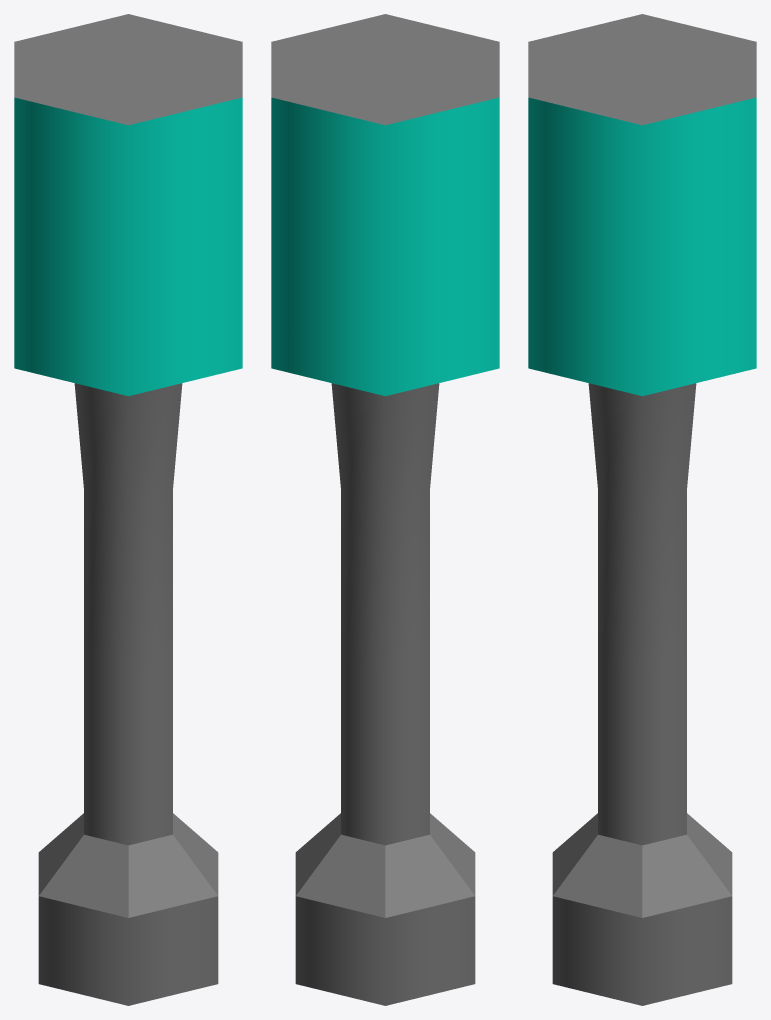
The model's file is Spline Lams 1.fbx.
The picture shows the model from 3 angles, left to right: view 1: azimuth 30°, elevation 25°; view 2: azimuth 150°, elevation 25°; view 3: azimuth 270°, elevation 25°; orthographic projection.
Visible parts, largest first — view 1: Cylinder001; view 2: Cylinder001; view 3: Cylinder001.
Boxes of the visible parts, x1,y1,x2,y2 form: Cylinder001: [14, 14, 242, 1005]; Cylinder001: [271, 14, 499, 1005]; Cylinder001: [528, 14, 756, 1005].
Size of the model in its own units: 4.47 by 16.7 by 3.87.
